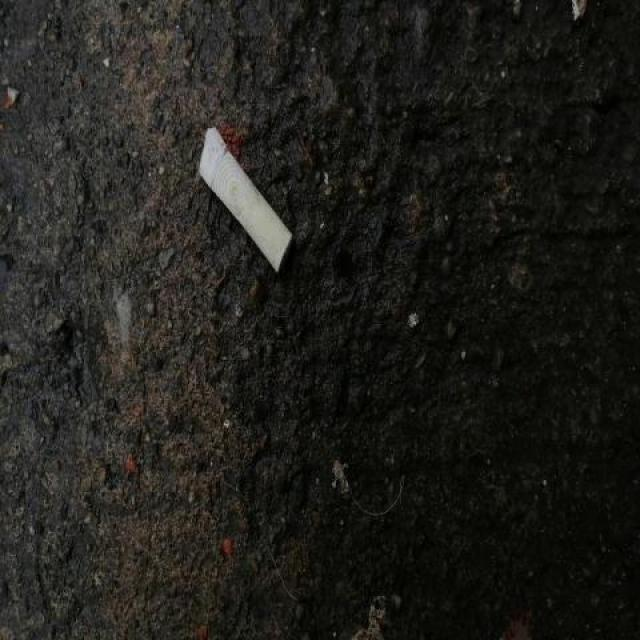non-organic waste: (192, 122, 296, 278)
